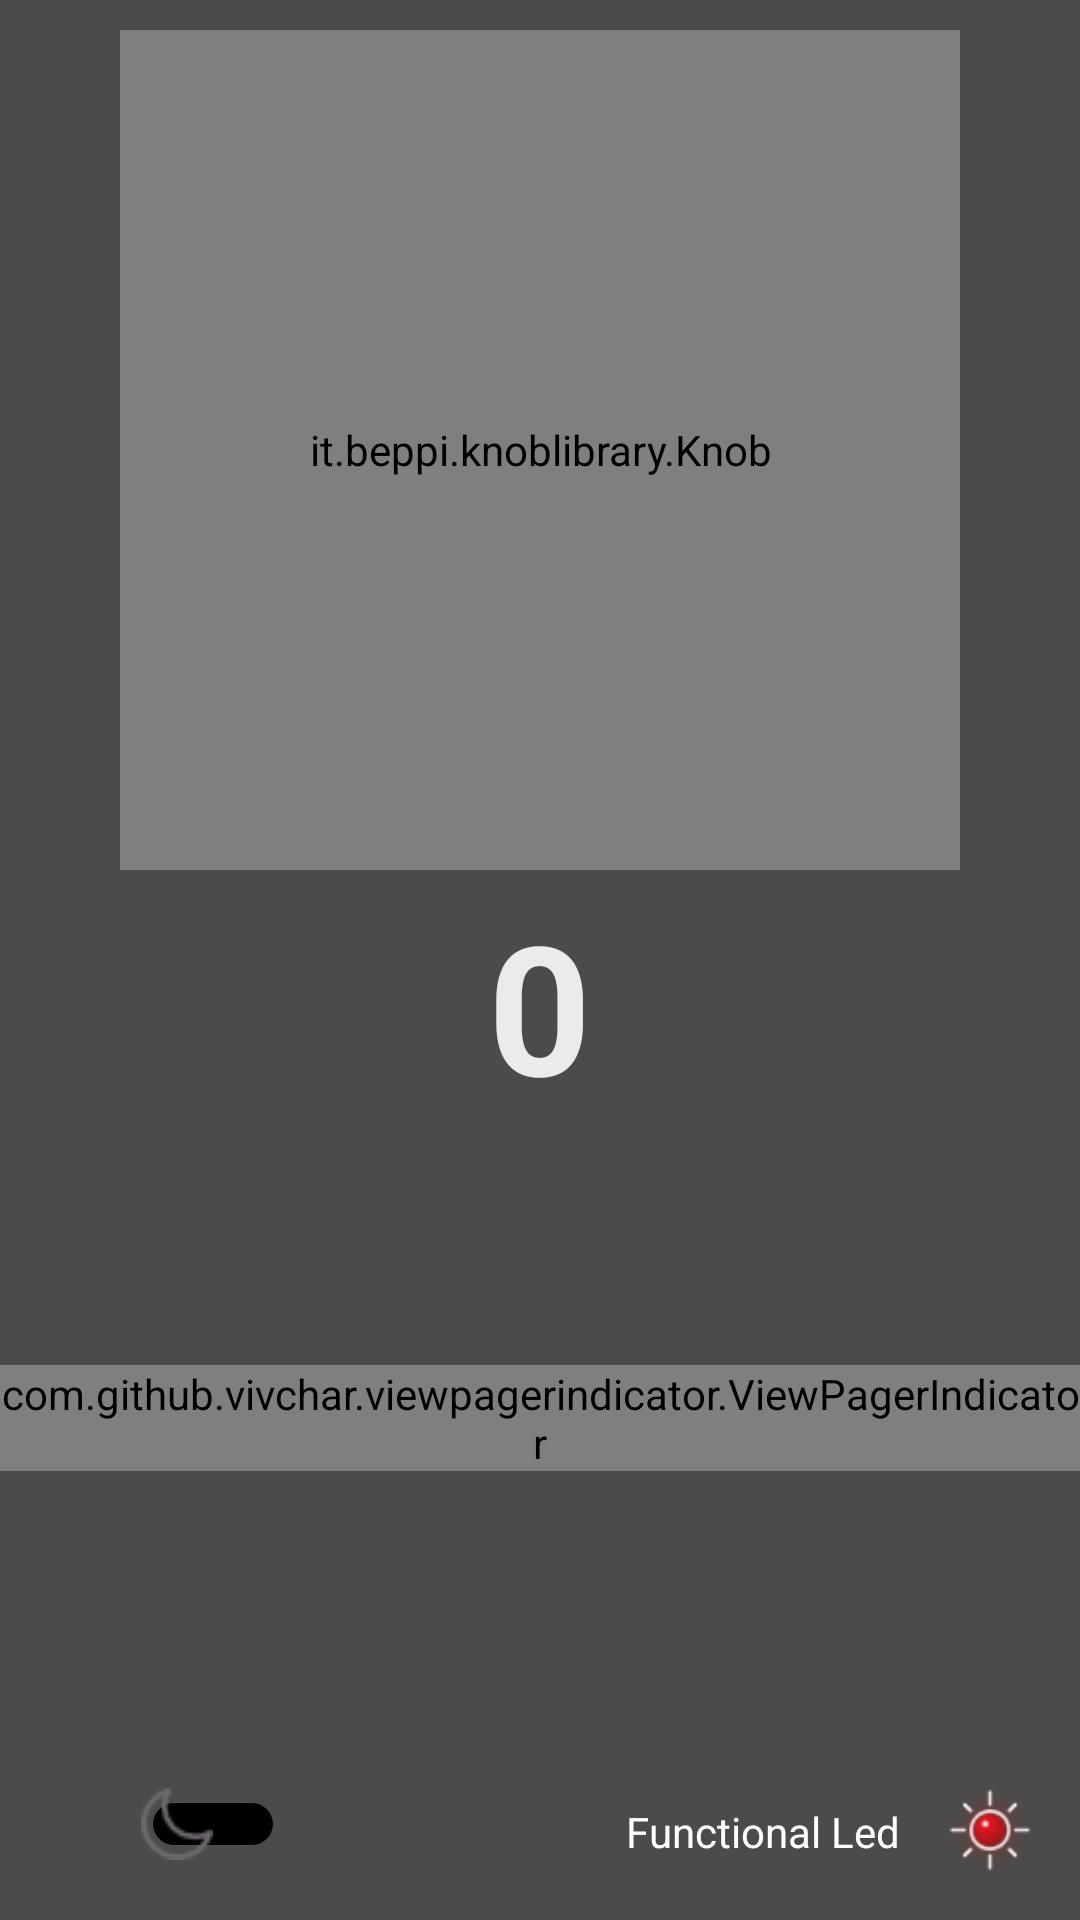

Named icons in this screenshot (1080w x 1920h) and their centers, (x=x, y=y):
laser acceso day: (x=990, y=1830)
